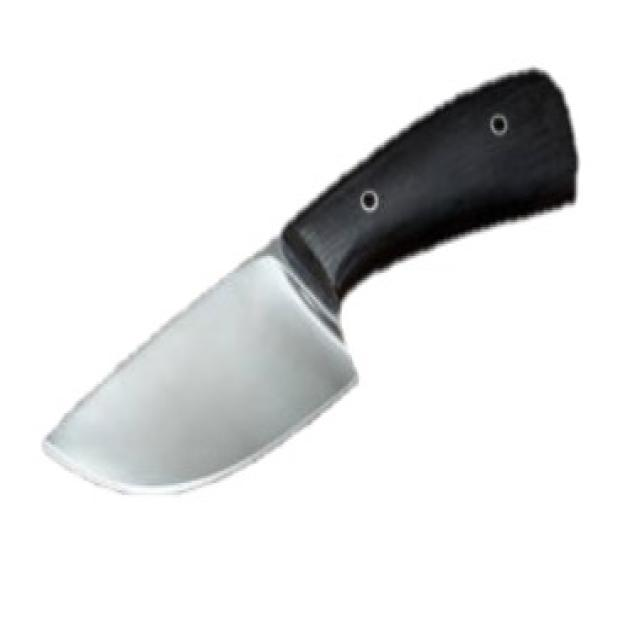knife: (28, 58, 584, 521)
